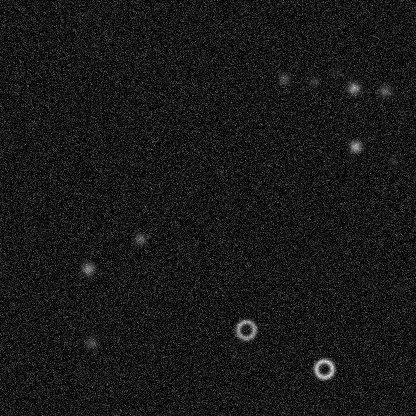Ring: (262, 261, 286, 285), (254, 310, 278, 334), (274, 90, 298, 114), (273, 163, 297, 187), (20, 361, 44, 385), (339, 12, 363, 36), (270, 141, 294, 165)
Spot: (119, 341, 135, 357), (163, 306, 179, 322), (352, 108, 368, 124), (81, 210, 97, 226), (191, 135, 207, 151), (228, 171, 244, 187), (17, 116, 33, 132)
